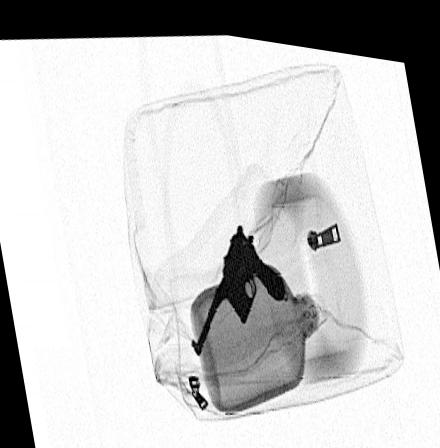Gun: (188, 216, 285, 349)
